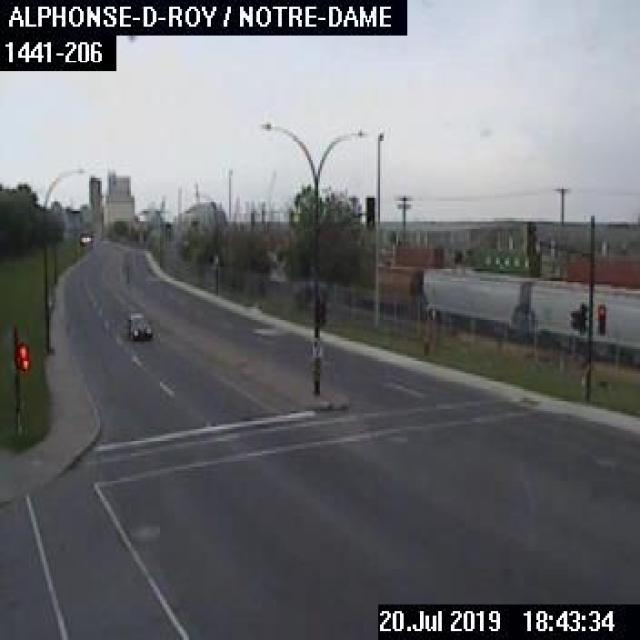vehicle: (125, 309, 151, 338)
